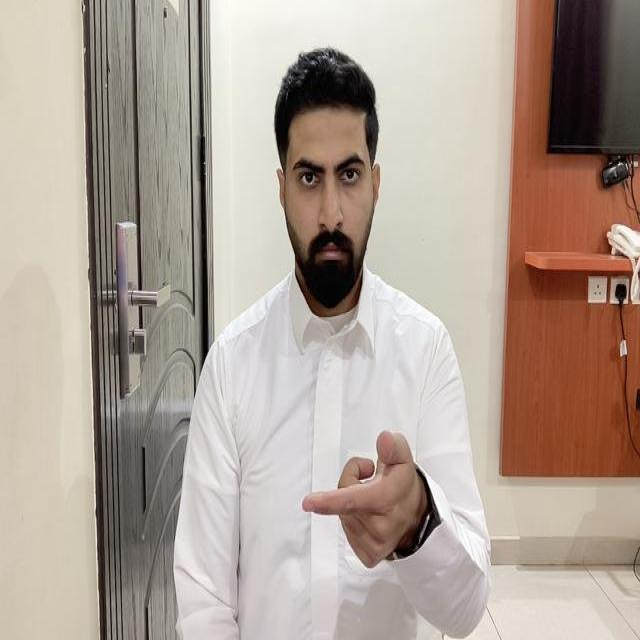dispensing: (301, 428, 425, 568)
